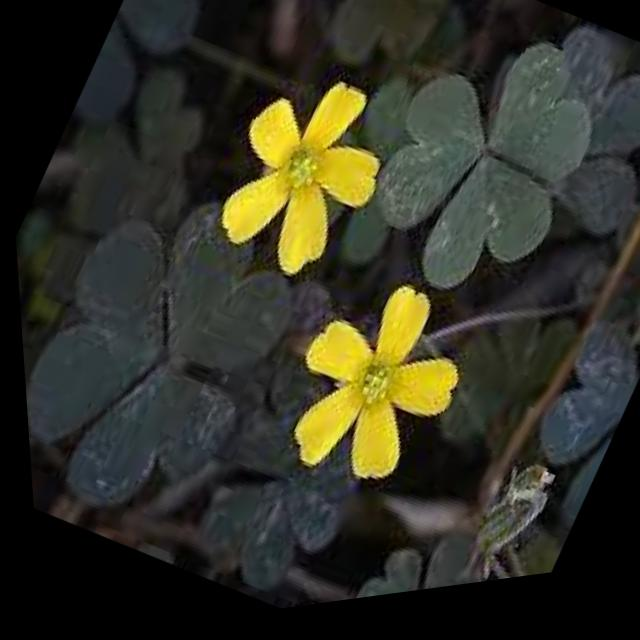Flower: (245, 255, 495, 538), (184, 48, 424, 319)
